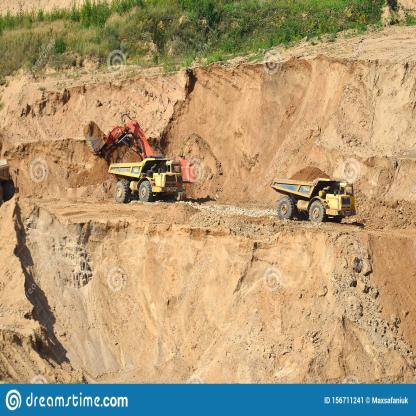dump_truck: (266, 158, 356, 232), (110, 152, 188, 209)
